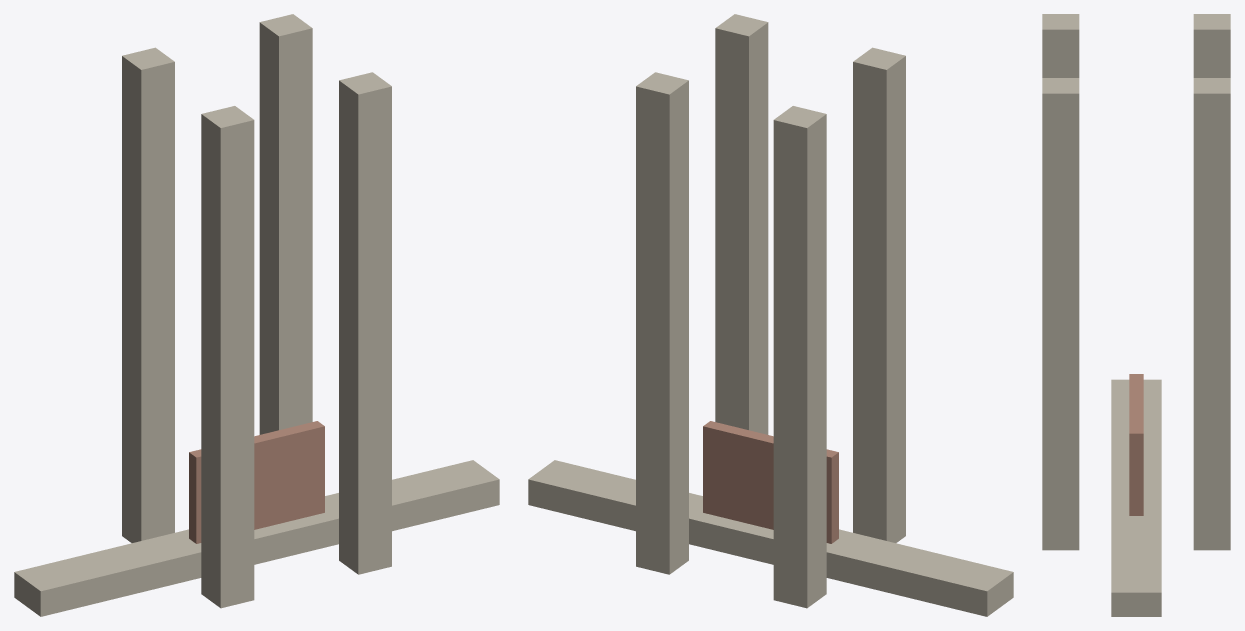
The model's file is iz3_neighborhood_avlu_ahşap.glb.
3 renders of one model, left to right at view 1: azimuth 30°, elevation 25°; view 2: azimuth 150°, elevation 25°; view 3: azimuth 270°, elevation 25°, orthographic. The views are drawn at different scales.
Visible parts, largest first — view 1: colonnade (×4), paving, planter; view 2: colonnade (×4), paving, planter; view 3: colonnade (×4), paving, planter.
Boxes of the visible parts, bbox=[...] form: colonnade (×4): bbox=[122, 14, 391, 608]; paving: bbox=[14, 460, 499, 616]; planter: bbox=[189, 421, 324, 543]; colonnade (×4): bbox=[636, 14, 905, 608]; paving: bbox=[528, 460, 1013, 616]; planter: bbox=[703, 421, 838, 543]; colonnade (×4): bbox=[1042, 14, 1230, 550]; paving: bbox=[1111, 379, 1161, 616]; planter: bbox=[1129, 374, 1143, 515].
Bounding box in the file's own units: 3 × 3 × 1.12.
